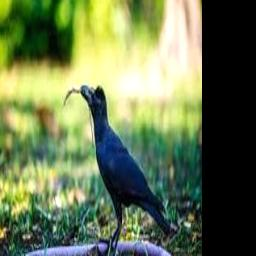Crow: (81, 85, 175, 248)
